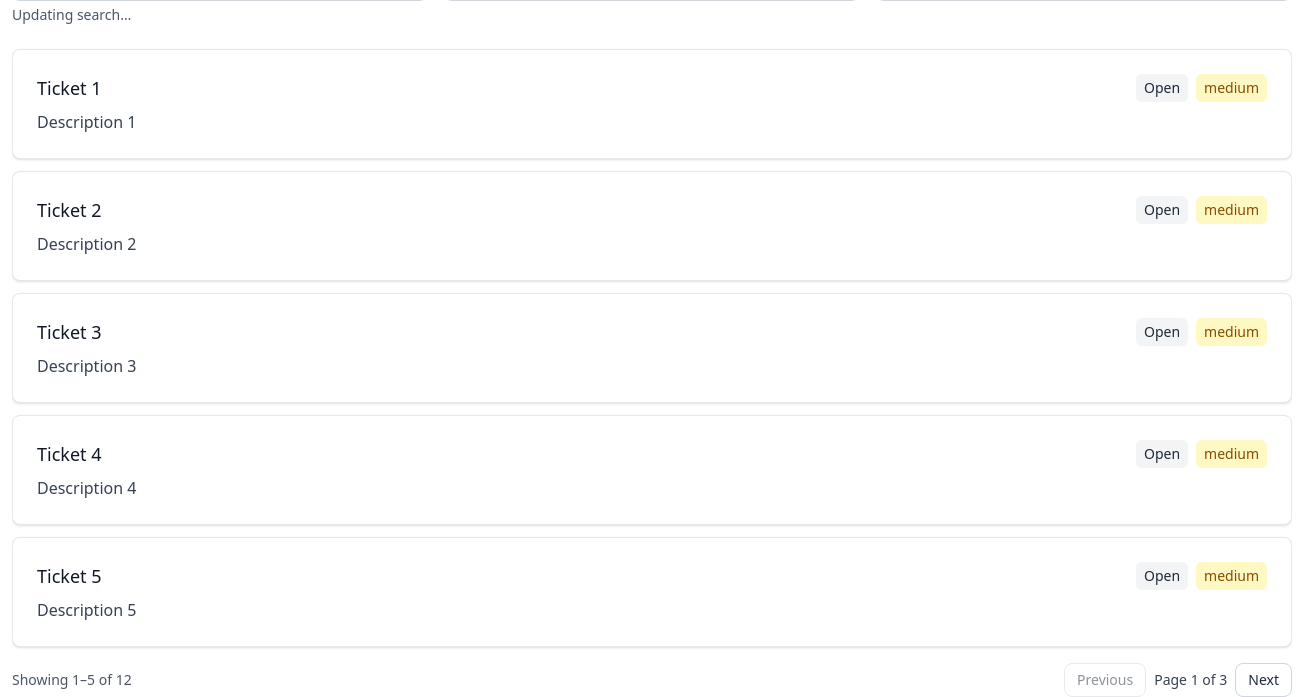
Scenario: TicketListPage pagination › moves to next page
(page scrolled)
Click the button "Next" at (1264, 680), box [1235,663,1292,696]
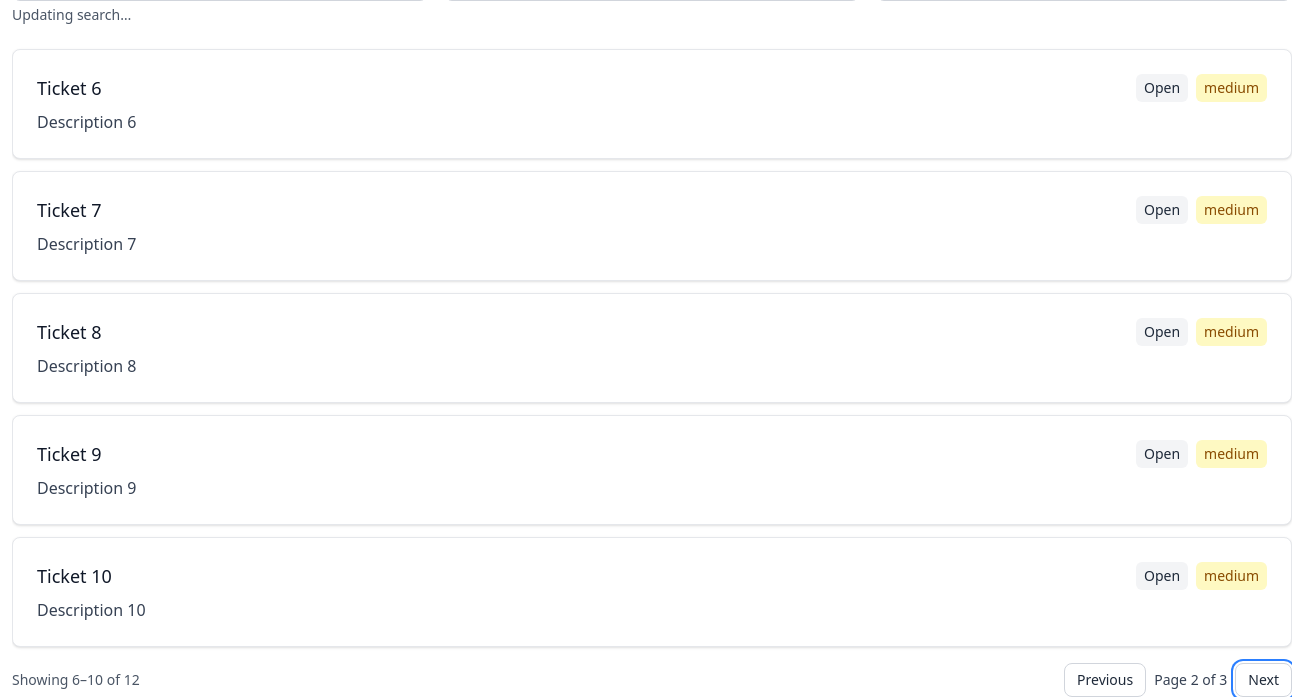
Result: the heading "Ticket 6" is shown at [37,74,102,102]
